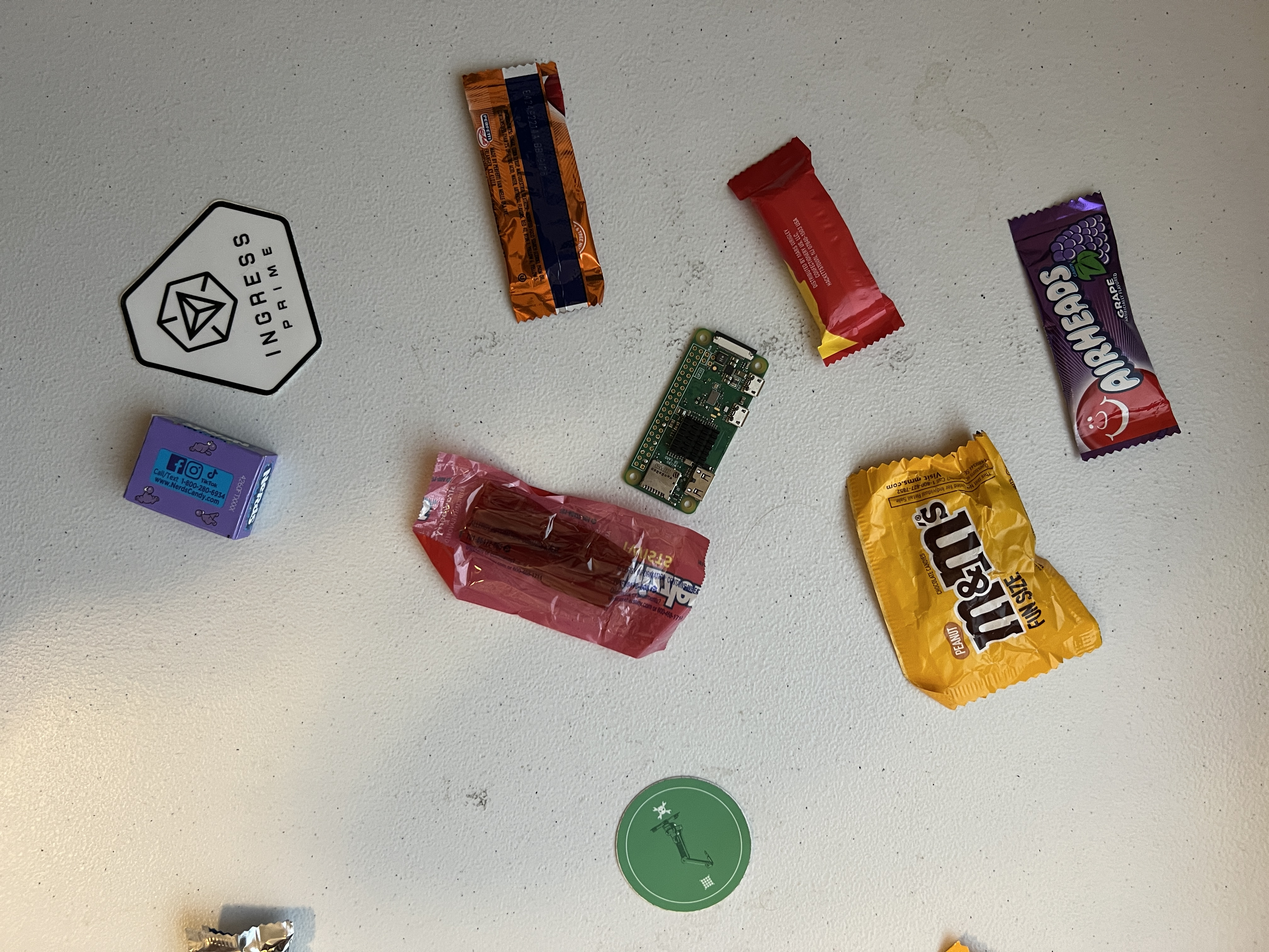MMs_peanut: (812, 414, 1089, 776)
airheads: (1013, 151, 1218, 498), (423, 13, 616, 346)
nerds: (77, 392, 301, 542)
starbust: (713, 121, 918, 370)
twizzlers: (363, 441, 745, 677)
